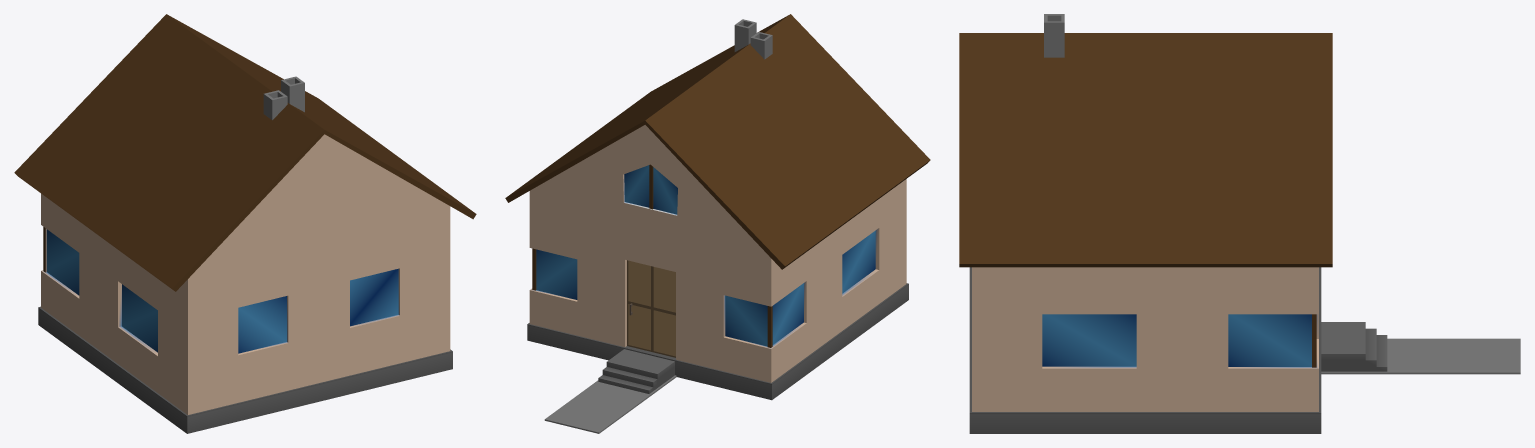
File: cottage_7.fbx
The picture shows the model from 3 angles, left to right: view 1: azimuth 30°, elevation 25°; view 2: azimuth 150°, elevation 25°; view 3: azimuth 270°, elevation 25°; orthographic projection. The views are drawn at different scales.
Parts seen in each view (by area): view 1: cottage_7; view 2: cottage_7; view 3: cottage_7.
Boxes of the visible parts, left/top/right/bottom form: cottage_7: left=14, top=14, right=476, bottom=433; cottage_7: left=505, top=14, right=930, bottom=433; cottage_7: left=959, top=14, right=1520, bottom=433.
Size of the model in its own units: 8.95 by 12.12 by 8.2.
